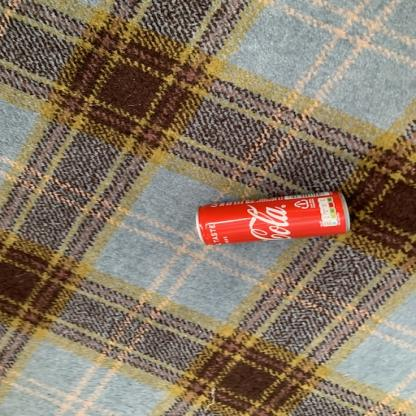trash: (191, 191, 354, 246)
